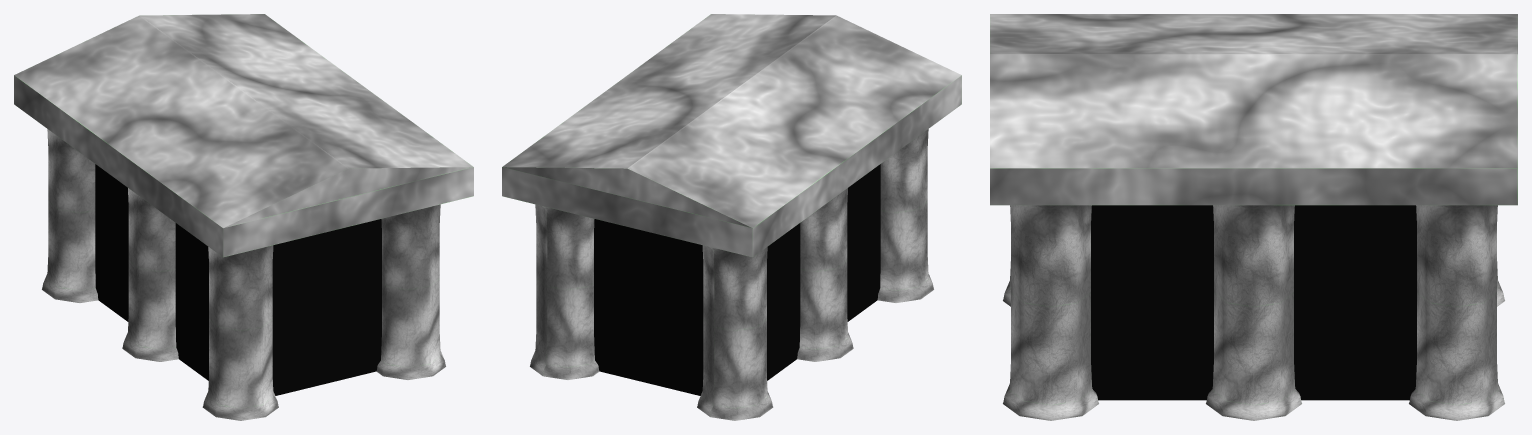
The model's file is shrineFilled.fbx.
The picture shows the model from 3 angles, left to right: view 1: azimuth 30°, elevation 25°; view 2: azimuth 150°, elevation 25°; view 3: azimuth 270°, elevation 25°; orthographic projection. The views are drawn at different scales.
Parts seen in each view (by area): view 1: Roof, Plane001, Cylinder006, Cylinder003, Plane004, Cylinder004, Cylinder005; view 2: Roof, Plane002, Cylinder004, Cylinder001, Plane004, Cylinder006, Cylinder005; view 3: Roof, Plane003, Cylinder001, Cylinder003, Cylinder002.
Boxes of the visible parts, <box> form: Roof: <box>14,14,473,257</box>; Plane001: <box>272,219,381,395</box>; Cylinder006: <box>202,245,278,420</box>; Cylinder003: <box>376,204,445,379</box>; Plane004: <box>95,164,208,380</box>; Cylinder004: <box>42,129,98,302</box>; Cylinder005: <box>122,188,178,361</box>; Roof: <box>502,14,961,257</box>; Plane002: <box>594,219,703,395</box>; Cylinder004: <box>697,245,773,420</box>; Cylinder001: <box>530,204,599,379</box>; Plane004: <box>767,164,880,380</box>; Cylinder006: <box>877,129,933,302</box>; Cylinder005: <box>797,188,853,361</box>; Roof: <box>990,14,1517,205</box>; Plane003: <box>1091,205,1416,400</box>; Cylinder001: <box>1409,205,1504,420</box>; Cylinder003: <box>1003,205,1098,420</box>; Cylinder002: <box>1206,205,1301,420</box>.
Size of the model in its own units: 90 by 80 by 130.
